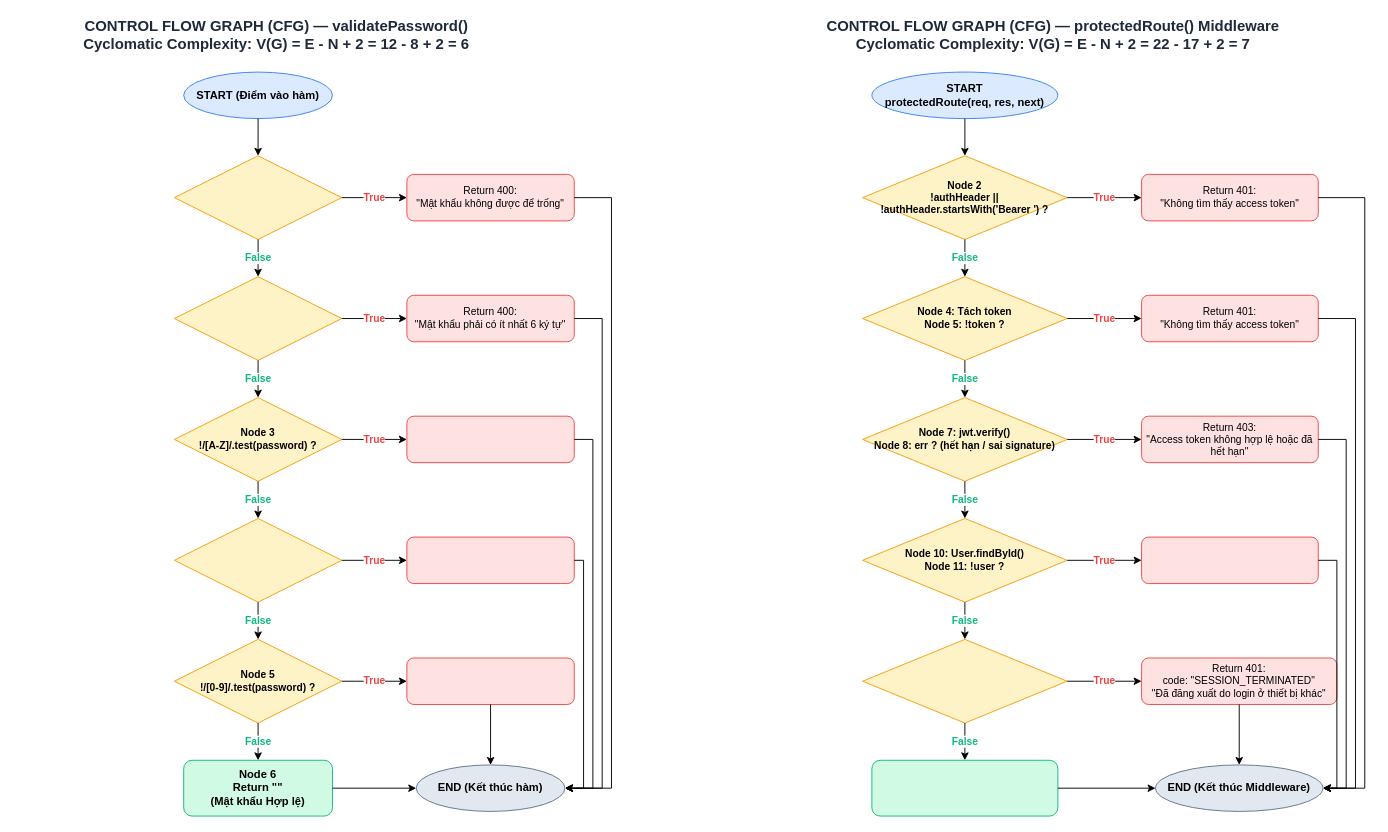
Some shapes in this 1388 by 832 pixel diagram are drawn without their labels. Here are the shapes that lost their labels. From the top down, the box of each, then its label:
(173, 155, 342, 239): Node 1 !password || !password.trim() ?
(173, 276, 342, 360): Node 2 password.length < 6 ?
(406, 415, 574, 463): Return 400: "Mật khẩu phải chứa ít nhất 1 chữ hoa (A-Z)"
(173, 518, 342, 602): Node 4 !/[a-z]/.test(password) ?
(406, 536, 574, 584): Return 400: "Mật khẩu phải chứa ít nhất 1 chữ thường (a-z)"
(1141, 536, 1318, 584): Return 404: "Người dùng không tồn tại"
(406, 657, 574, 704): Return 400: "Mật khẩu phải chứa ít nhất 1 chữ số (0-9)"
(862, 638, 1067, 723): Node 13 user.tokenVersion !== decodedUser.tokenVersion ?
(871, 759, 1058, 816): Node 15 req.user = user; next(); (Thành công)
